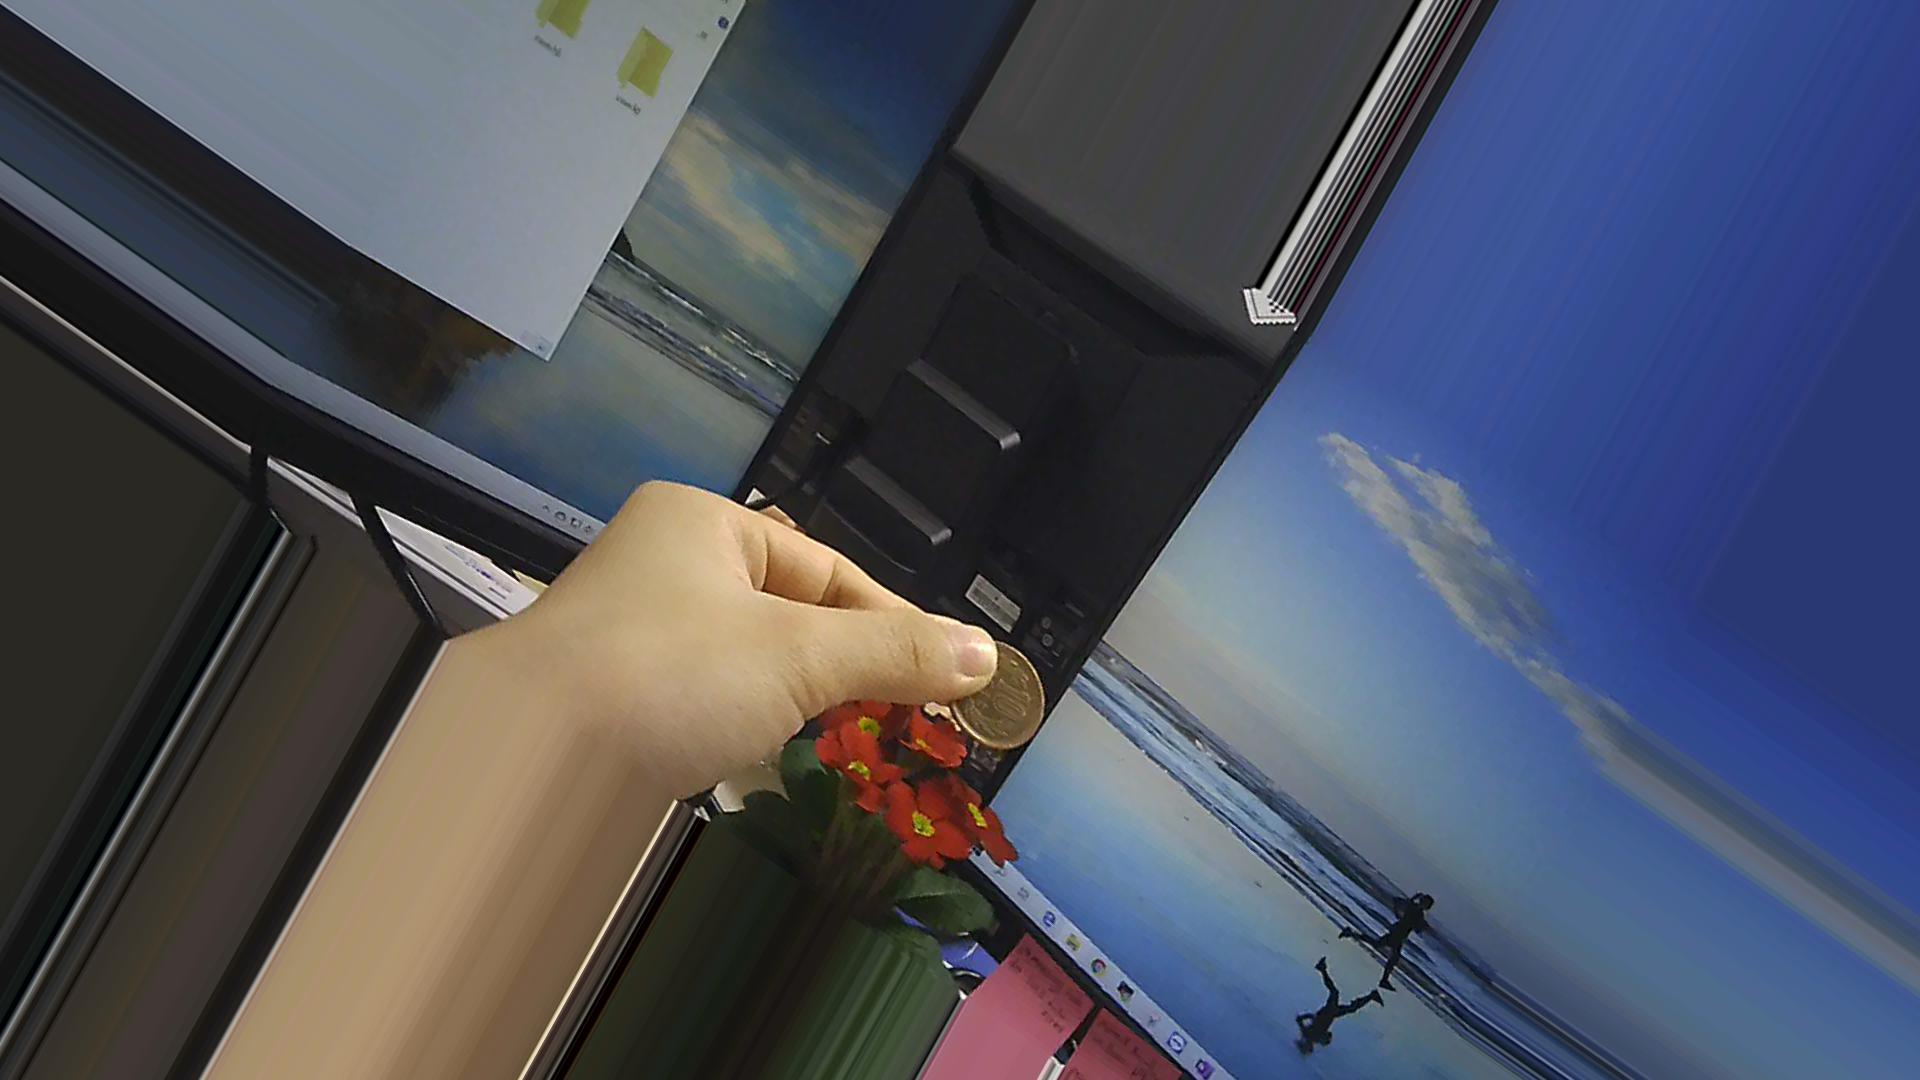10 Yen: (942, 637, 1050, 771)
